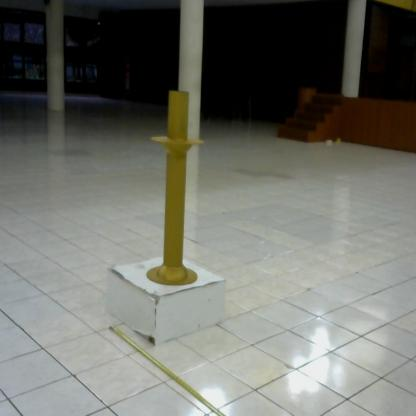pole: (146, 87, 210, 288)
